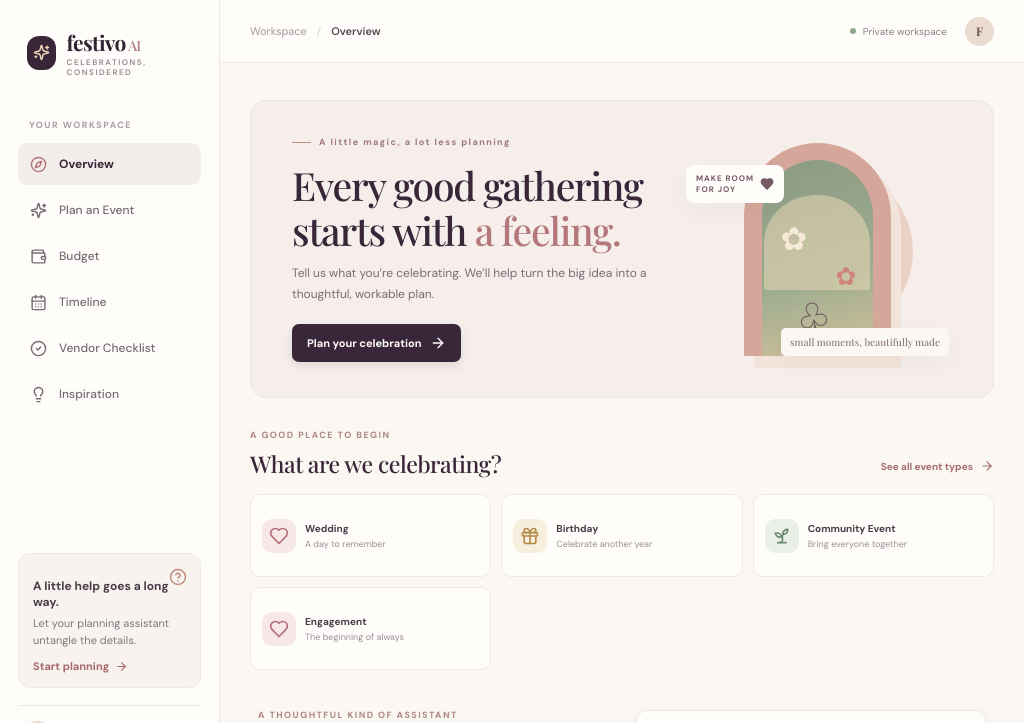
planning workflow › shows the temporary Gemini outage message while keeping the local guide labelled
Click the button "Plan your celebration" at (377, 344), box [292,324,462,362]
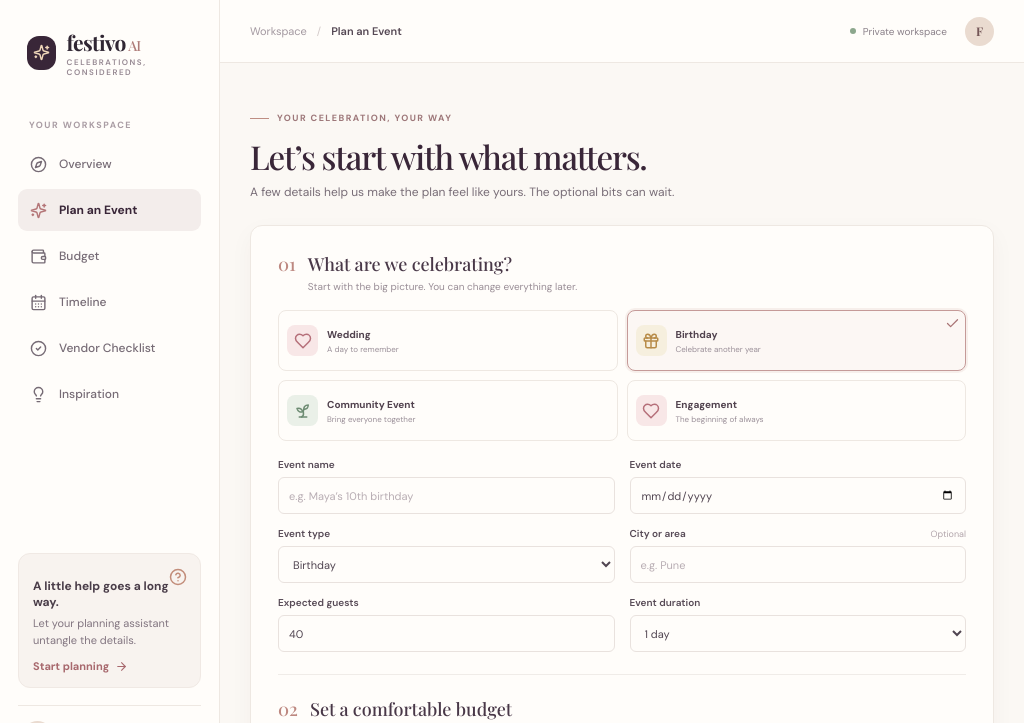
Type "Maya birthday" into the field labelled "Event name" at (446, 496), box [278,477,614,514]
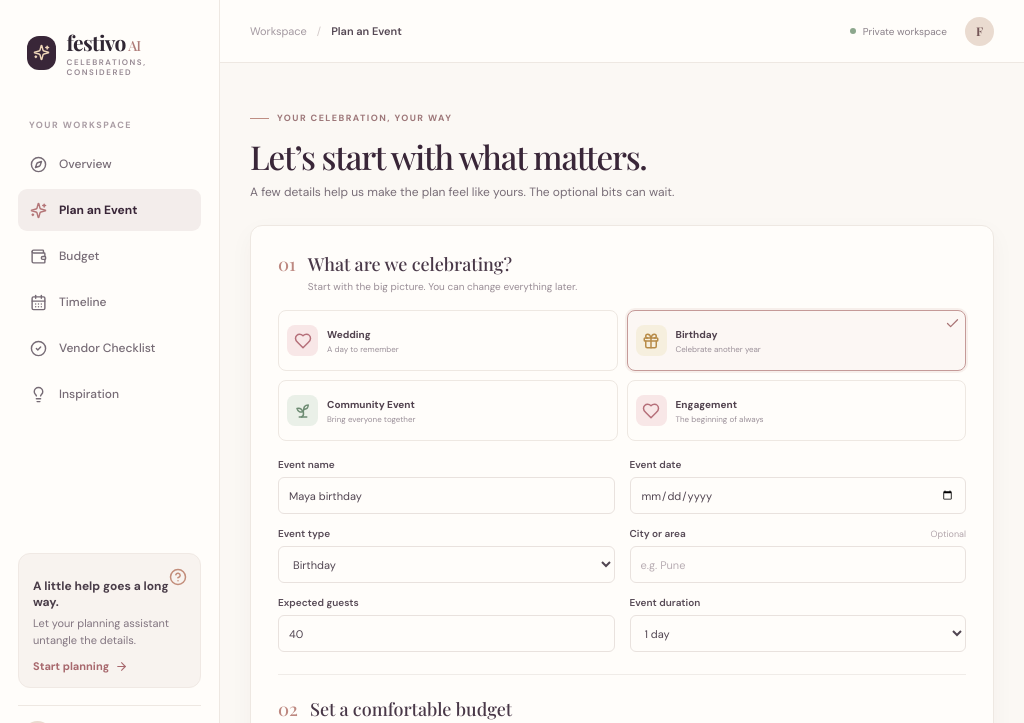
Type "2027-06-20" into the date field labelled "Event date" at (798, 496), box [630,477,966,514]
(page scrolled)
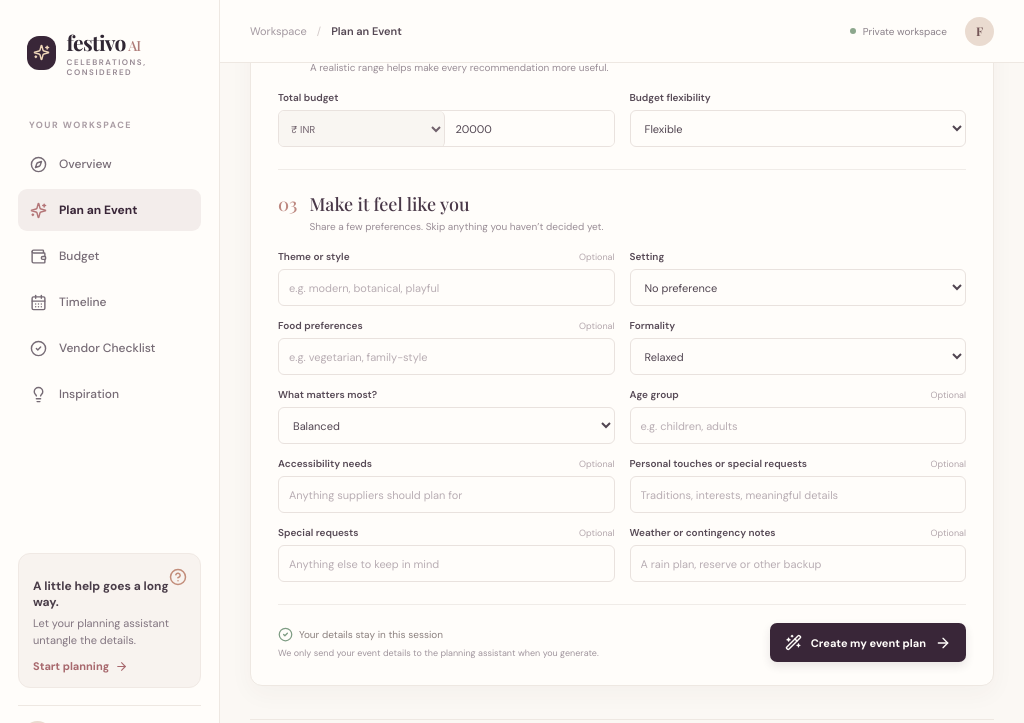
Click the button "Create my event plan" at (868, 643), box [770,623,966,662]
(page scrolled)
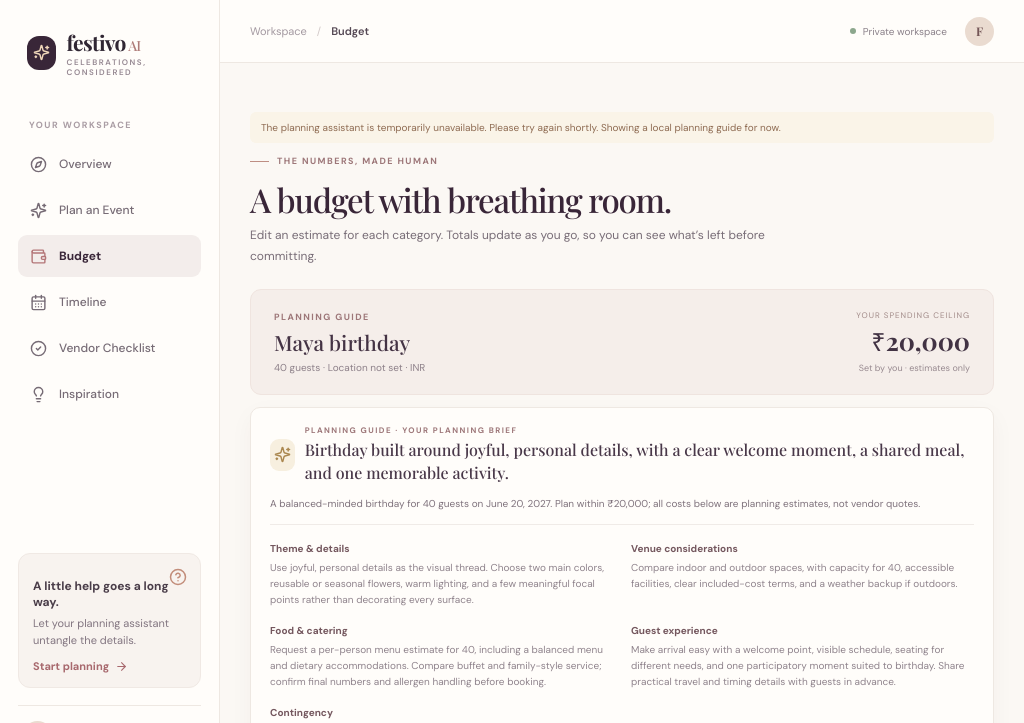
Now the text "local planning guide" is shown, box [261,121,781,134]
Now the heading "Maya birthday" is shown, box [274,328,425,356]
